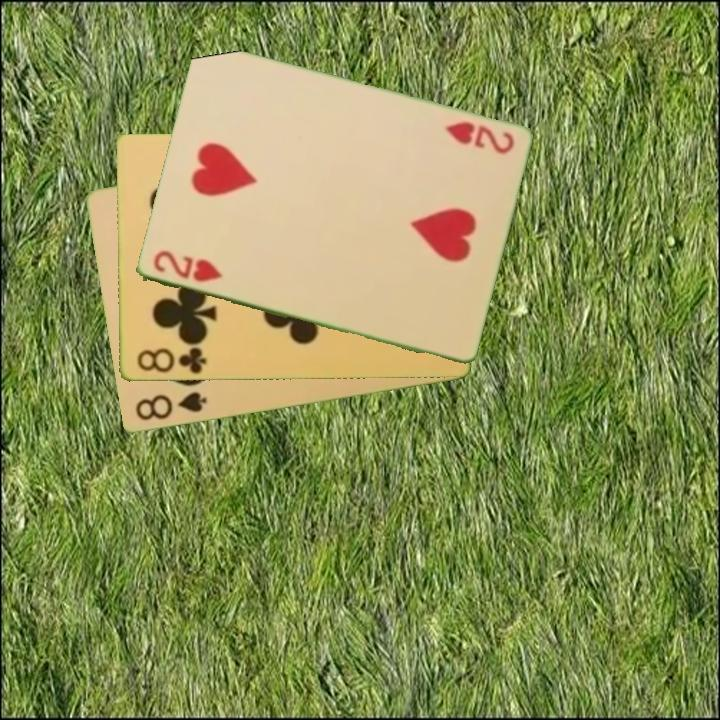2h: (441, 118, 517, 157), (149, 247, 226, 285)
8c: (133, 344, 209, 377)
8s: (131, 388, 210, 424)
